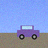vehicle: (17, 26, 39, 39)
